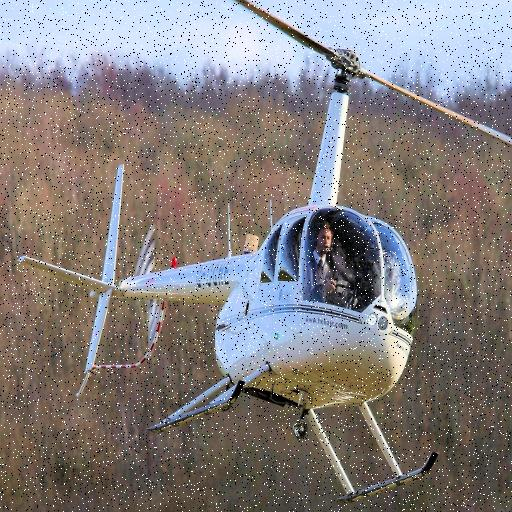helicopter: (17, 1, 512, 509)
